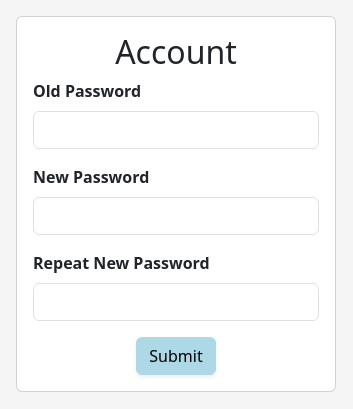
Test: Account › can update form data.
Click the password field labelled "Old Password": (176, 130) [33,111,319,149]
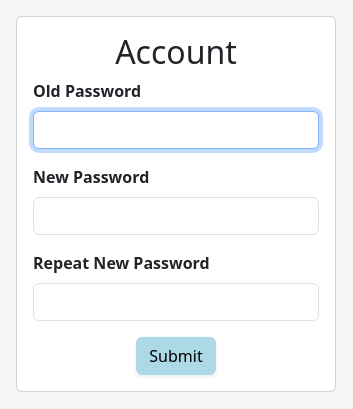
Type keys "old"
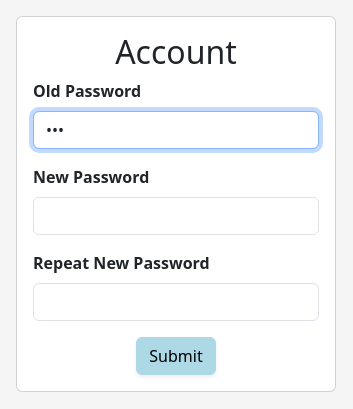
Click the password field labelled "New Password": (176, 216) [33,197,319,235]
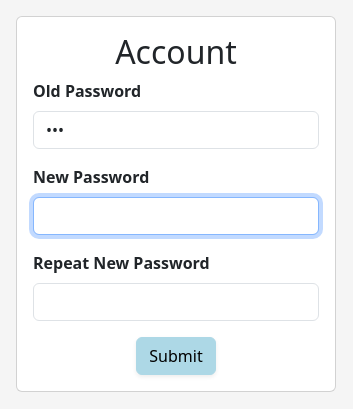
Type keys "new"
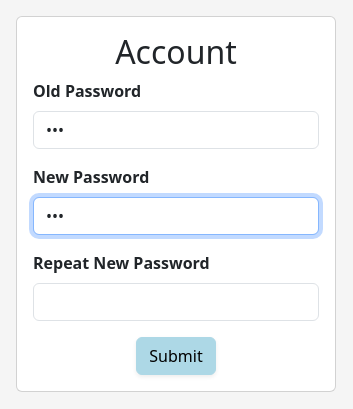
Click the password field labelled "Repeat New Password": (176, 302) [33,283,319,321]
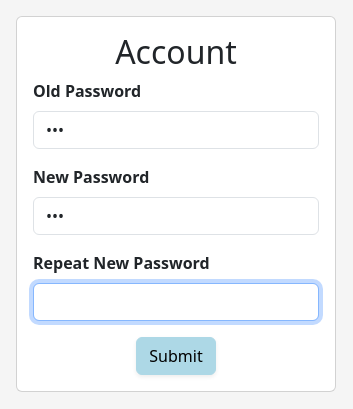
Type keys "new"
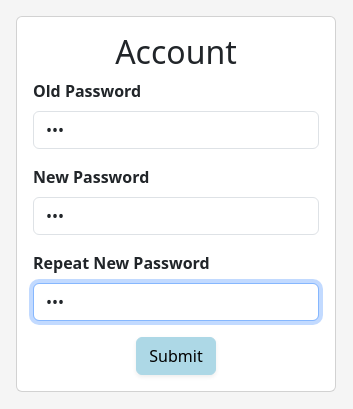
Now the password field labelled "Old Password" holds "old", box [33,111,319,149]
Now the password field labelled "New Password" holds "new", box [33,197,319,235]
Now the password field labelled "Repeat New Password" holds "new", box [33,283,319,321]
